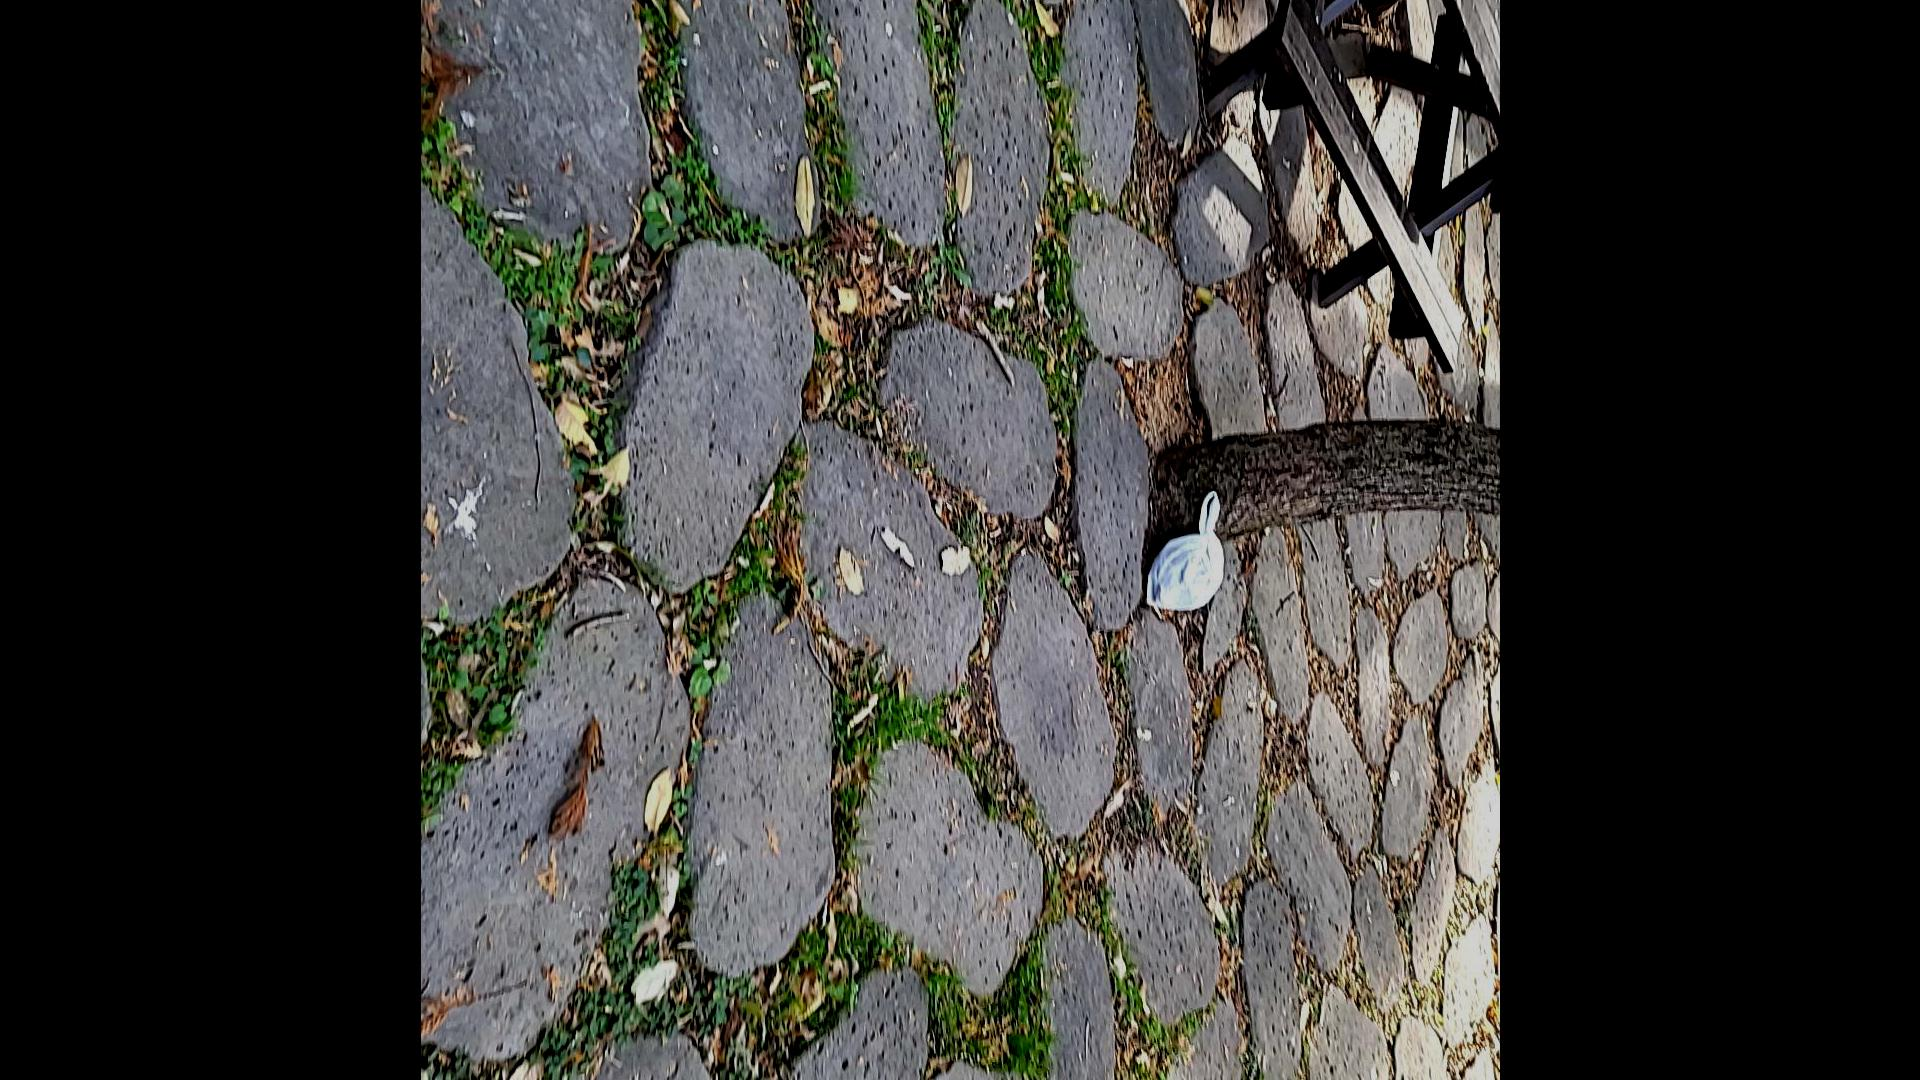white_bag: (1139, 488, 1232, 616)
